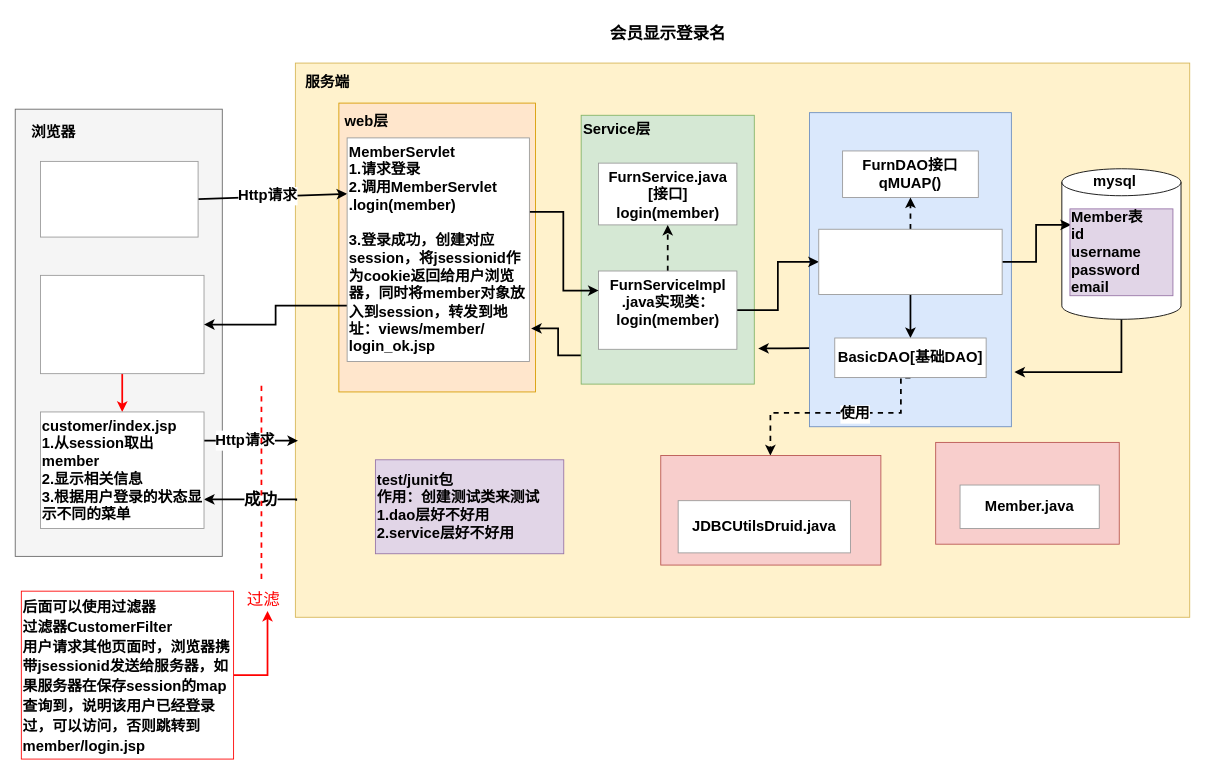
This 1205x774 diagram has some shape labels left out. Here are the shapes that lost their labels. From the top down, the box of each, then its label:
(40, 161, 198, 237): member/login.jsp 1.会员登录页面 2.表单数据格式验证
(818, 228, 1002, 294): FurnDAOImpl实现类 queryMemberBy UsernameAndPassword()
(809, 112, 1011, 427): dao层
(40, 274, 204, 374): login_ok.jsp 1.session取出member信息并显示
(660, 455, 881, 565): utils包-提供工具类，比如德鲁伊数据连接池
(935, 442, 1119, 544): entity包-提供Javabean
